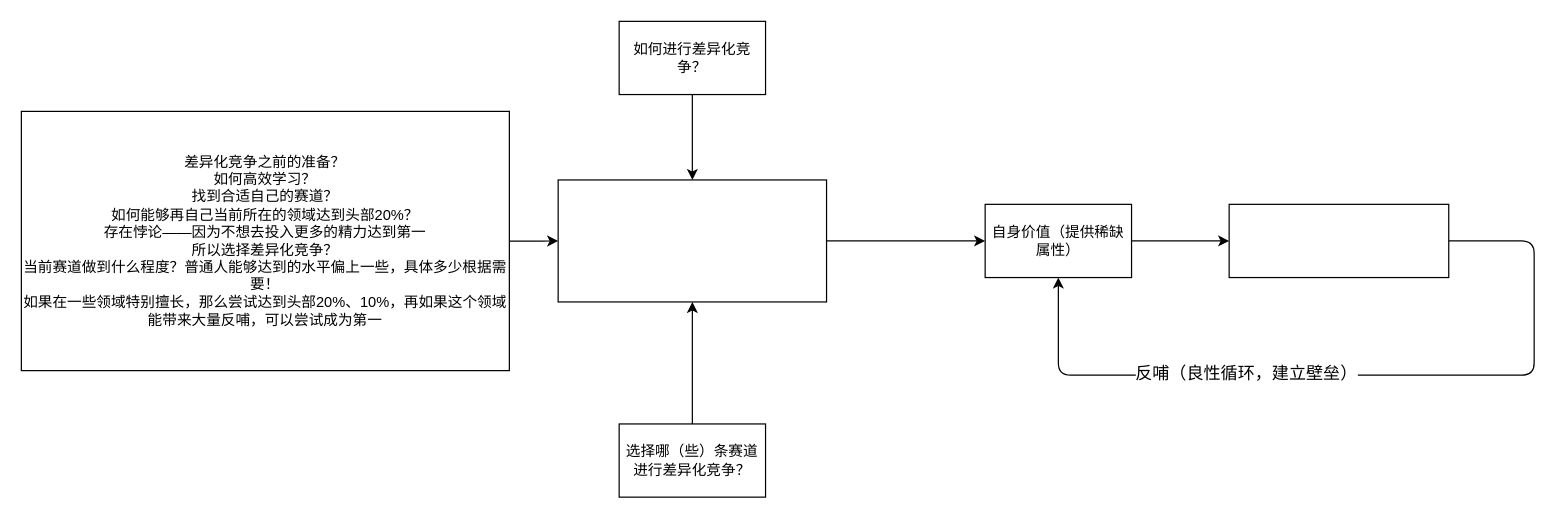
Image size: 1565x519. Some labels were removed from this diagram. Here are the shapes that lost their labels. From the top down, the centre of each, then its label:
At point 692,240: "差异化竞争".
At point 1338,240: "有时间，有经济做自己想做的事情（财富自由）".
